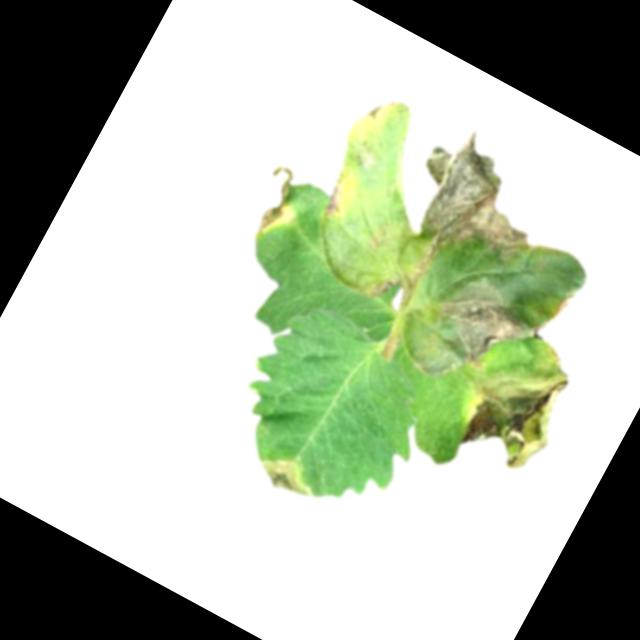Late_blight: (391, 116, 555, 282), (444, 322, 591, 483), (404, 263, 542, 407), (243, 161, 313, 243), (249, 449, 320, 506), (530, 284, 577, 343), (317, 178, 354, 223), (365, 264, 402, 304)
